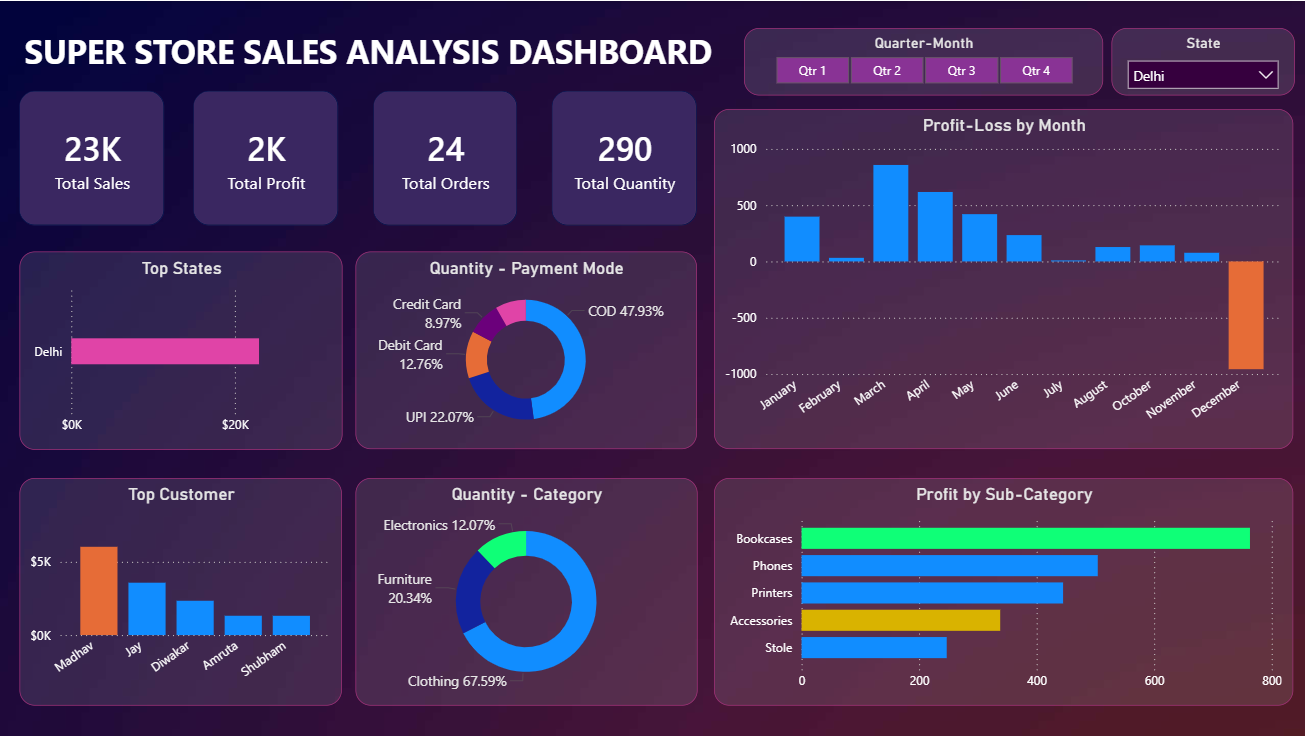

The dashboard page shown, as its layout file describes it:
{"tool":"powerbi","page":{"name":"Page 1","canvas":[1280,720],"ordinal":0},"visuals":[{"type":"columnChart","title":"Profit-Loss by Month","fields":{"Y":["Sum(Details.Profit)"],"Category":["Orders.Order Date.Variation.Date Hierarchy.Month"]},"box":[699.2,105.8,566.9,332.6],"z":0},{"type":"barChart","title":"Profit by Sub-Category","fields":{"Category":["Details.Sub-Category"],"Y":["Sum(Details.Profit)"]},"box":[699.2,466.8,566.9,223],"z":1000},{"type":"donutChart","title":"Quantity - Category","fields":{"Category":["Details.Category"],"Y":["Sum(Details.Quantity)"]},"box":[347.7,466.8,334.5,223],"z":2000},{"type":"donutChart","title":"Quantity - Payment Mode","fields":{"Y":["Sum(Details.Quantity)"],"Category":["Details.PaymentMode"]},"box":[348,245,334,193],"z":3000},{"type":"cardVisual","fields":{"Data":["Details.Total Sales"]},"box":[1,70,176,166],"z":4000},{"type":"cardVisual","fields":{"Data":["Details.Total Profit"]},"box":[172,70,176,166],"z":5000},{"type":"cardVisual","fields":{"Data":["Details.Total Orders"]},"box":[348,70,175,166],"z":6000},{"type":"cardVisual","fields":{"Data":["Details.Total Quantity"]},"box":[523,70,176,166],"z":7000},{"type":"barChart","title":"Top States","fields":{"Category":["Orders.State"],"Y":["Sum(Details.Amount)"]},"box":[19,245,316,194],"z":8000},{"type":"clusteredColumnChart","title":"Top Customer","fields":{"Category":["Orders.CustomerName"],"Y":["Sum(Details.Amount)"]},"box":[18.9,466.8,315.6,223],"z":9000},{"type":"textbox","box":[18.9,13.2,708.7,79.4],"z":10000},{"type":"slicer","title":"Quarter-Month","fields":{"Values":["Orders.Order Date.Variation.Date Hierarchy.Quarter"]},"box":[728,26,351,66],"z":11000},{"type":"slicer","title":"State","fields":{"Values":["Orders.State"]},"box":[1087,26,179,66],"z":12000}]}

Visuals, with their boxes in screenshot pixels (x1, y1, x2, y2), scaled from the page's 1280x720 canvas onto the 1305x736 screenshot:
"Profit-Loss by Month" columnChart: 713,108,1291,448
"Profit by Sub-Category" barChart: 713,477,1291,705
"Quantity - Category" donutChart: 354,477,696,705
"Quantity - Payment Mode" donutChart: 355,250,695,448
cardVisual - Details.Total Sales: 1,72,180,241
cardVisual - Details.Total Profit: 175,72,355,241
cardVisual - Details.Total Orders: 355,72,533,241
cardVisual - Details.Total Quantity: 533,72,713,241
"Top States" barChart: 19,250,342,449
"Top Customer" clusteredColumnChart: 19,477,341,705
textbox: 19,13,742,95
"Quarter-Month" slicer: 742,27,1100,94
"State" slicer: 1108,27,1291,94
